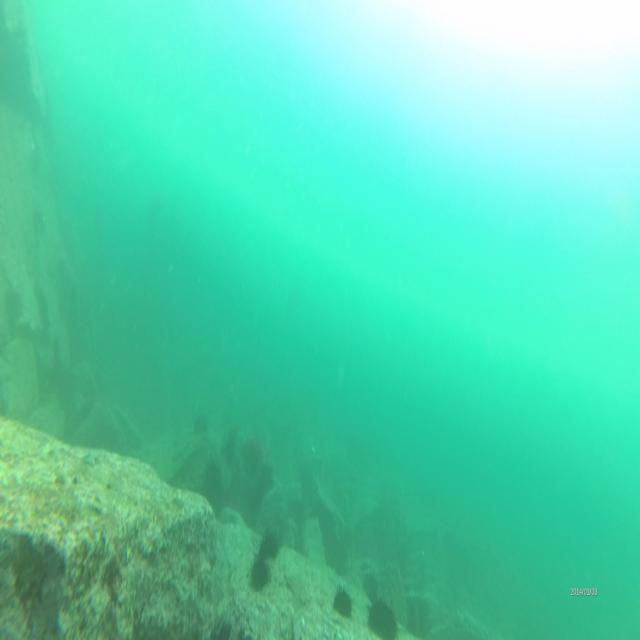echinus: (365, 588, 398, 640), (255, 529, 282, 567), (332, 577, 352, 625), (248, 554, 270, 590)
